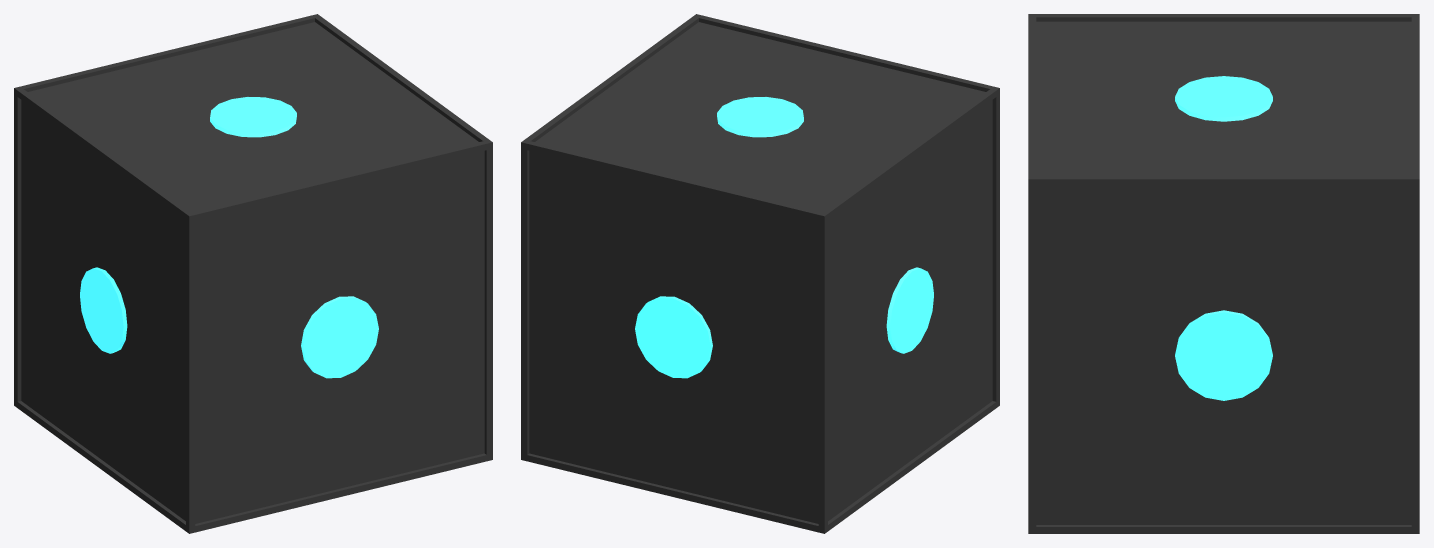
Rendered from Cube Building Block Model.fbx.
3 renders of one model, left to right at view 1: azimuth 30°, elevation 25°; view 2: azimuth 150°, elevation 25°; view 3: azimuth 270°, elevation 25°, orthographic. The views are drawn at different scales.
Visible parts, largest first — view 1: Cube Building Block; view 2: Cube Building Block; view 3: Cube Building Block.
Boxes of the visible parts, box(x1,y1,x2,y2) form: Cube Building Block: box(14, 14, 492, 533); Cube Building Block: box(521, 14, 999, 533); Cube Building Block: box(1028, 14, 1419, 533).
Bounding box in the file's own units: 200 × 200 × 200.
